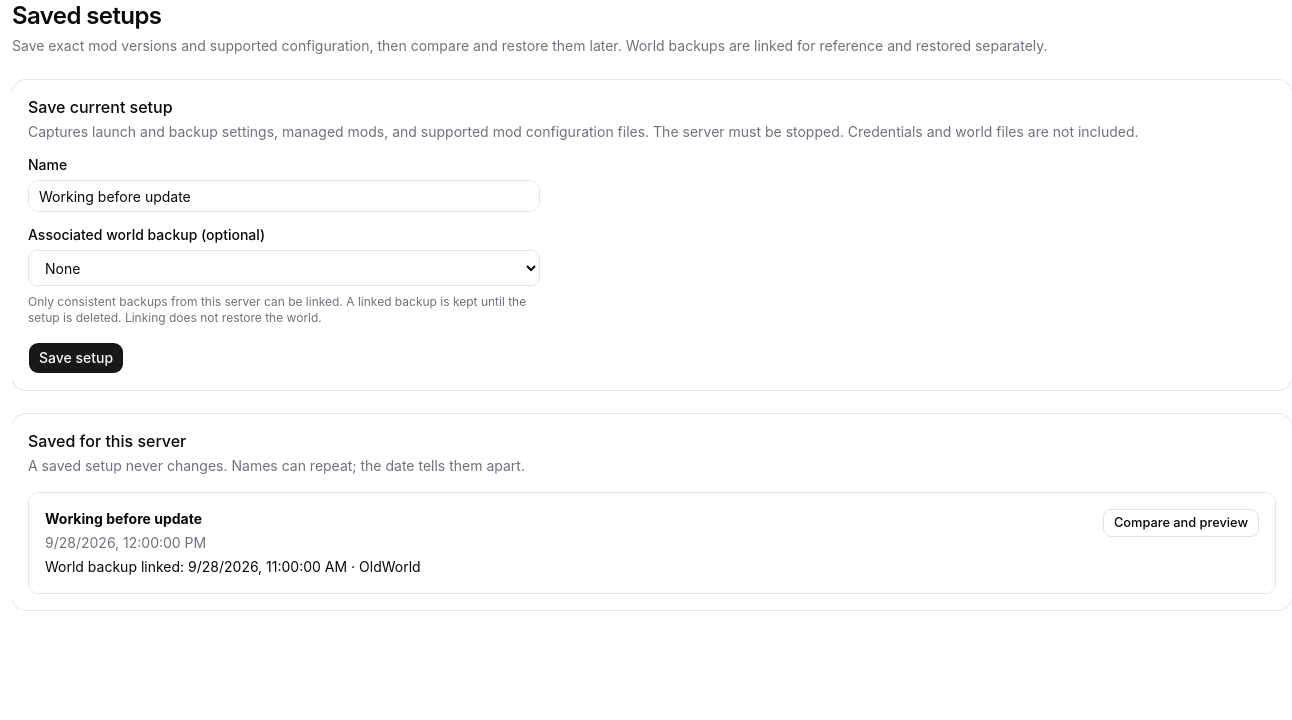
Test: Saved setups › blocks an unready preview and shows the reason
Click the button "Compare and preview" at [1181, 523], box top-left (1103, 509), bottom-right (1259, 537)
(page scrolled)
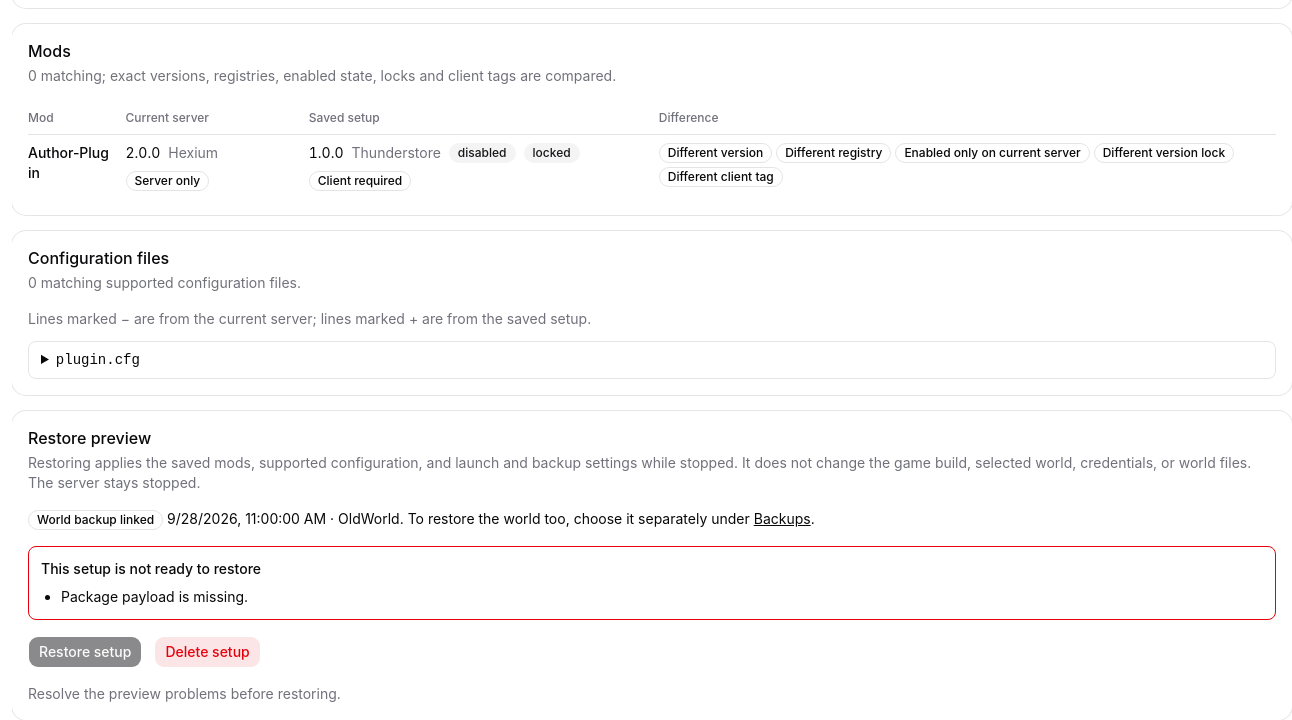
Check: the button "Restore setup" is disabled, box top-left (28, 636), bottom-right (142, 668)
